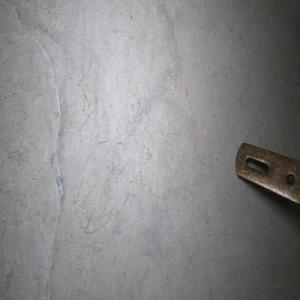MetalPart: (234, 140, 300, 215)
